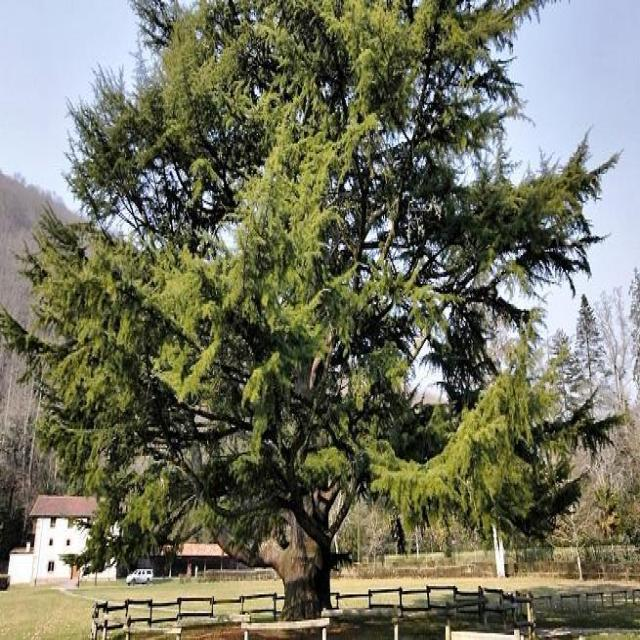cedro: (12, 0, 638, 624)
